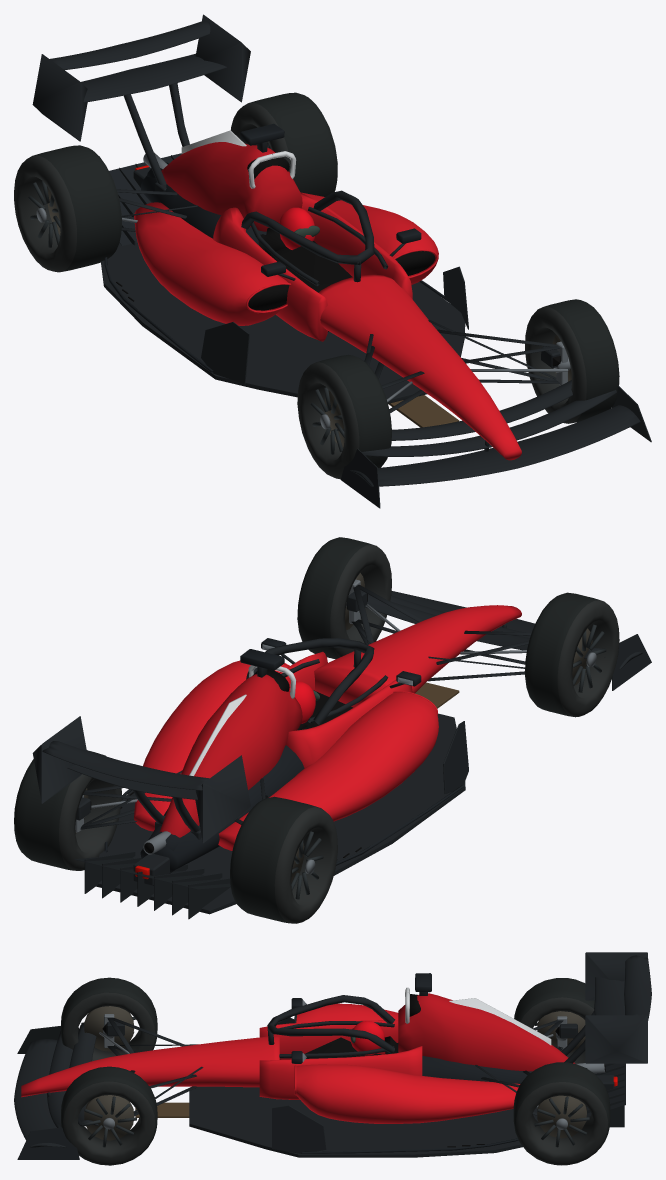
3 renders of one model, top to bottom at view 1: azimuth 30°, elevation 25°; view 2: azimuth 150°, elevation 25°; view 3: azimuth 270°, elevation 25°, orthographic. The views are drawn at different scales.
Visible parts, largest first — view 1: L2_Chassis, L2_Wheel_RL, L2_Wheel_FL, L2_Wheel_FR, L2_Wheel_RR; view 2: L2_Chassis, L2_Wheel_RL, L2_Wheel_FL, L2_Wheel_RR, L2_Wheel_FR; view 3: L2_Chassis, L2_Wheel_RR, L2_Wheel_FR, L2_Wheel_FL, L2_Wheel_RL.
Boxes of the visible parts, x1,y1,x2,y2 form: L2_Chassis: (32, 14, 651, 508); L2_Wheel_RL: (14, 145, 121, 272); L2_Wheel_FL: (297, 354, 391, 479); L2_Wheel_FR: (525, 299, 619, 423); L2_Wheel_RR: (231, 92, 337, 196); L2_Chassis: (32, 573, 651, 919); L2_Wheel_RL: (230, 796, 337, 923); L2_Wheel_FL: (525, 592, 619, 717); L2_Wheel_RR: (14, 751, 121, 870); L2_Wheel_FR: (297, 537, 391, 659); L2_Chassis: (14, 952, 651, 1159); L2_Wheel_RR: (513, 1062, 610, 1165); L2_Wheel_FR: (61, 1066, 157, 1165); L2_Wheel_FL: (61, 977, 157, 1061); L2_Wheel_RL: (514, 978, 594, 1063).
Size of the model in its own units: 1.9 by 1.13 by 4.79.
